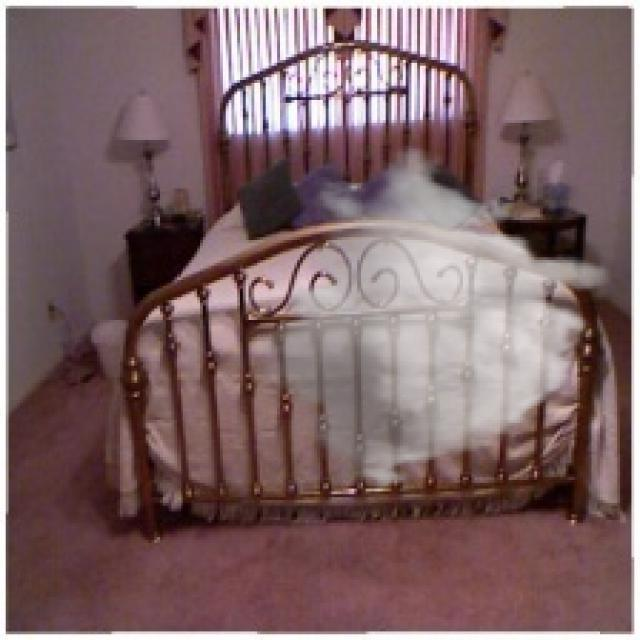Smoke: (248, 146, 614, 492)
